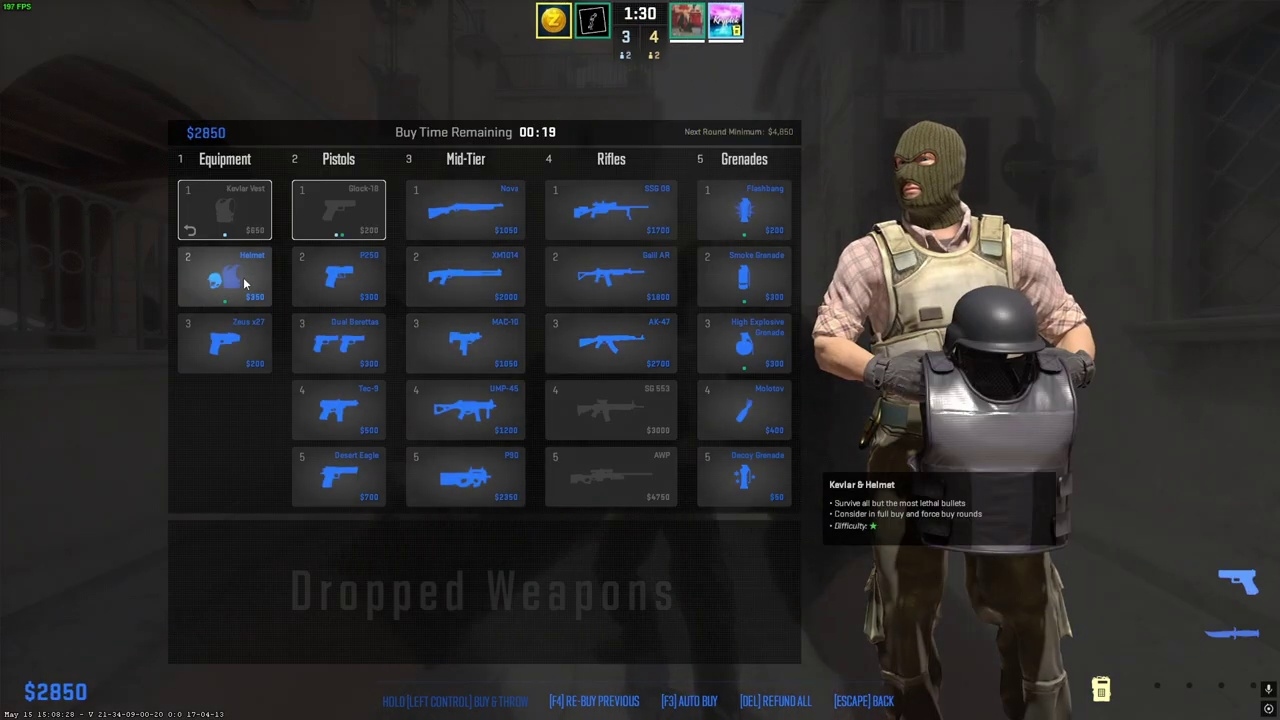Terrorist: (855, 122, 1083, 719)
